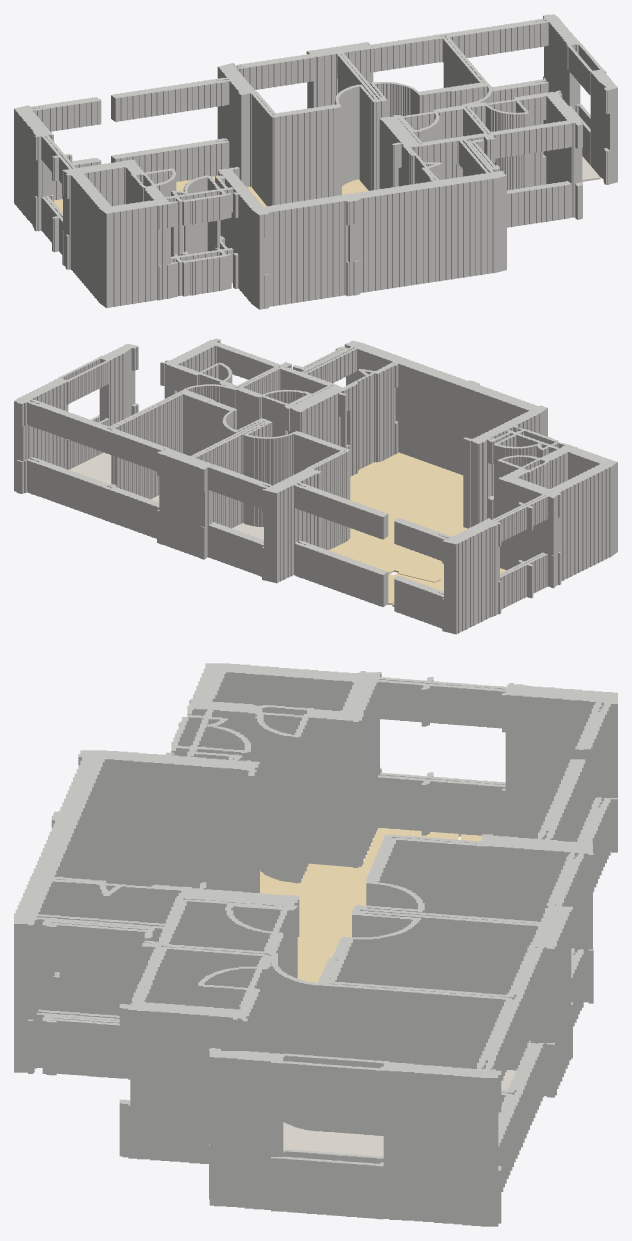
3 renders of one model, top to bottom at view 1: azimuth 30°, elevation 25°; view 2: azimuth 150°, elevation 25°; view 3: azimuth 270°, elevation 25°, orthographic. The views are drawn at different scales.
Parts seen in each view (by area): view 1: walls, room:living:1; view 2: walls, room:living:1, room:other:5, room:living:0; view 3: walls, room:living:1, room:other:5.
Part boxes in pixels (left/top/right/bottom): walls: left=14, top=14, right=617, bottom=309; room:living:1: left=183, top=179, right=368, bottom=251; walls: left=14, top=338, right=617, bottom=634; room:living:1: left=329, top=452, right=505, bottom=582; room:other:5: left=70, top=452, right=111, bottom=484; room:living:0: left=387, top=573, right=443, bottom=606; walls: left=14, top=663, right=617, bottom=1226; room:living:1: left=260, top=828, right=458, bottom=983; room:other:5: left=283, top=1122, right=383, bottom=1156.
Size of the model in its own units: 16.76 by 2.8 by 10.32.
